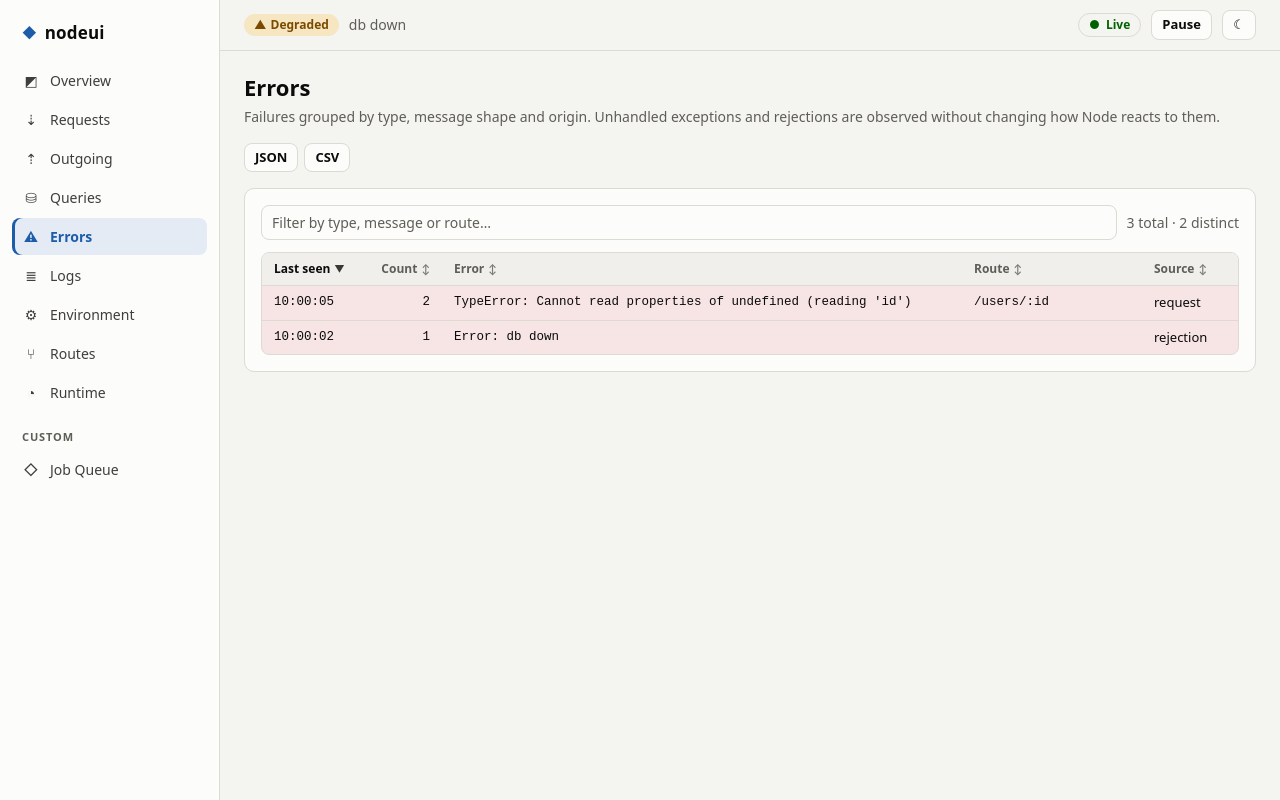
Test: Errors view › lists grouped errors, filters and opens the stack in a drawer
Expected: the text "Error: db down" is shown, [442,320,962,354]
Expected: the text "3 total · 2 distinct" is shown, [1127,212,1239,233]
In the search field with placeholder "Filter by type, message or route…": [689, 222] box [261,205,1117,240], type "users"
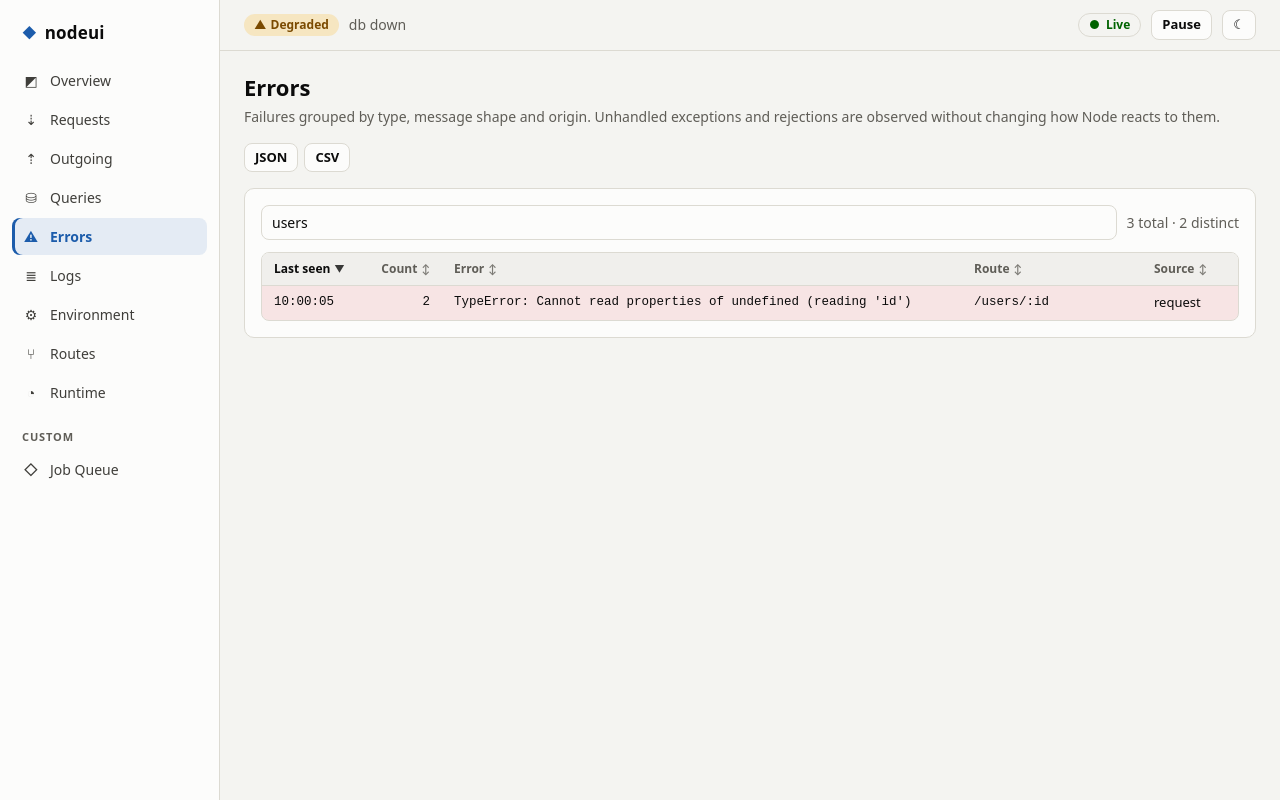
Expected: the text "Error: db down" is gone
Click the text "Cannot read properties": [702, 303] box [442,286,962,320]
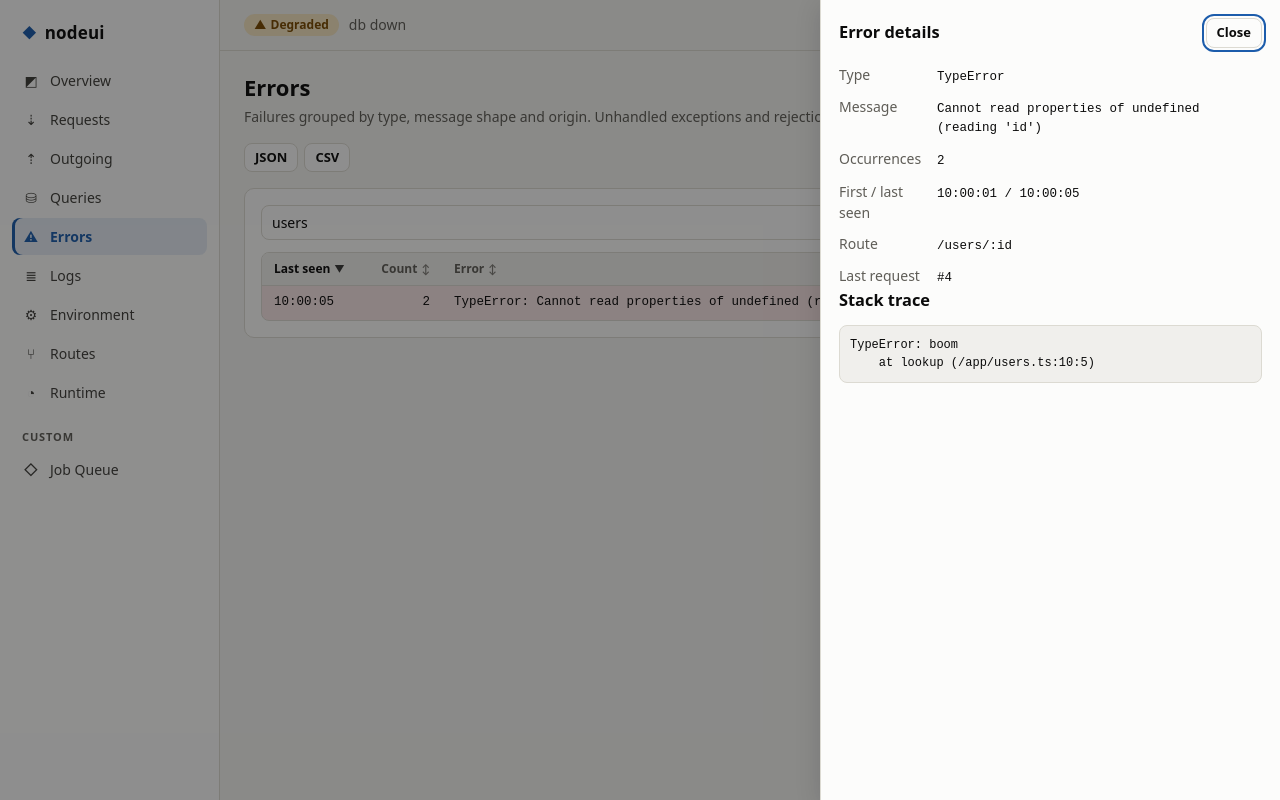
Expected: the text "TypeError: boom at lookup (/app/users.ts:10:5)" is shown, [839,325,1262,383]
Expected: the text "/users/:id" is shown, [937,238,1012,252]
